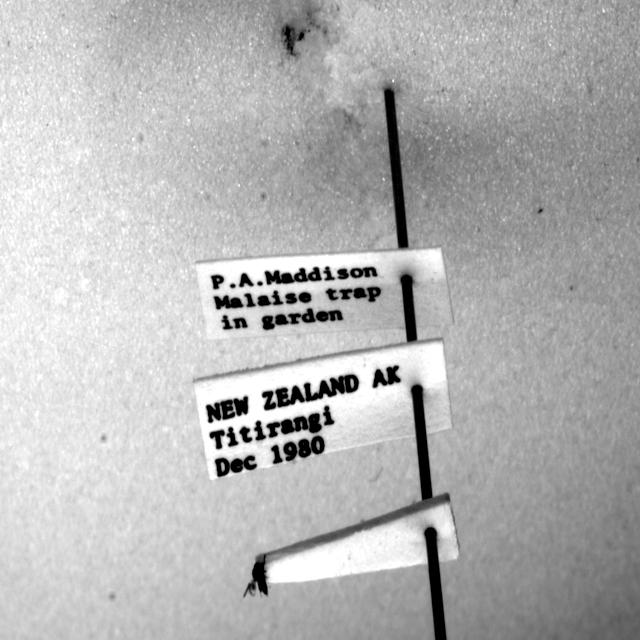typed_label: (195, 339, 452, 480), (196, 248, 454, 339)
